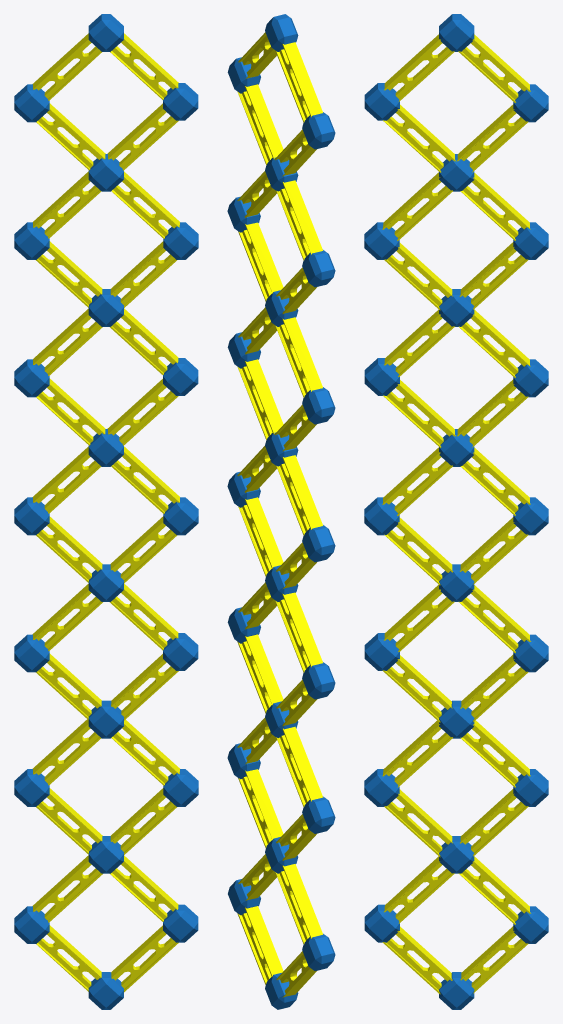
The model's file is RomboidStructureX7.fbx.
3 views of the same model, side by side, from view 1: azimuth 90°, elevation 25°; view 2: azimuth 210°, elevation 25°; view 3: azimuth 270°, elevation 25° (orthographic).
Parts seen in each view (by area): view 1: Beam; view 2: Beam; view 3: Beam.
Part boxes in pixels (left/top/right/bottom): Beam: left=14, top=14, right=198, bottom=1009; Beam: left=227, top=14, right=335, bottom=1009; Beam: left=364, top=14, right=548, bottom=1009.
Size of what is drawn, in the model's own units: 150 by 7010 by 1184.
